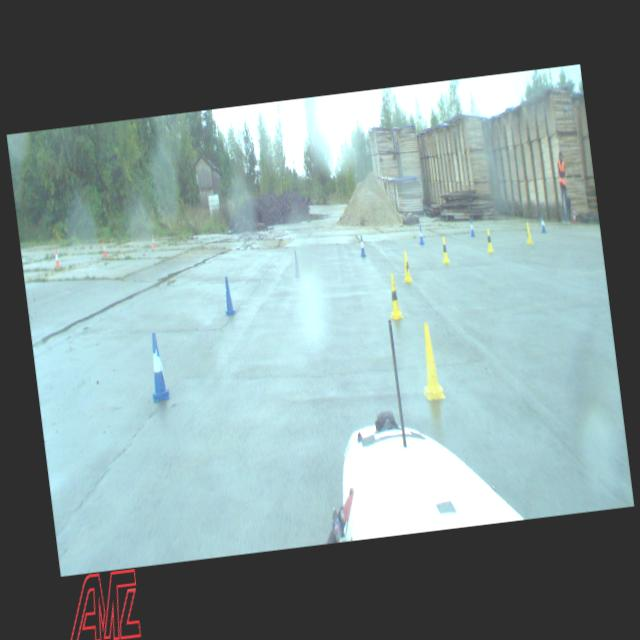blue_cone: (145, 330, 170, 401), (222, 276, 236, 314), (292, 250, 300, 278), (358, 234, 366, 257), (417, 224, 424, 244), (468, 218, 475, 236), (539, 214, 546, 232)
orange_cone: (53, 248, 60, 268), (100, 240, 106, 256), (150, 234, 155, 248)
yellow_cone: (416, 322, 446, 401), (385, 273, 403, 319), (400, 249, 412, 282), (440, 235, 450, 263), (484, 228, 494, 252), (524, 222, 533, 244)
